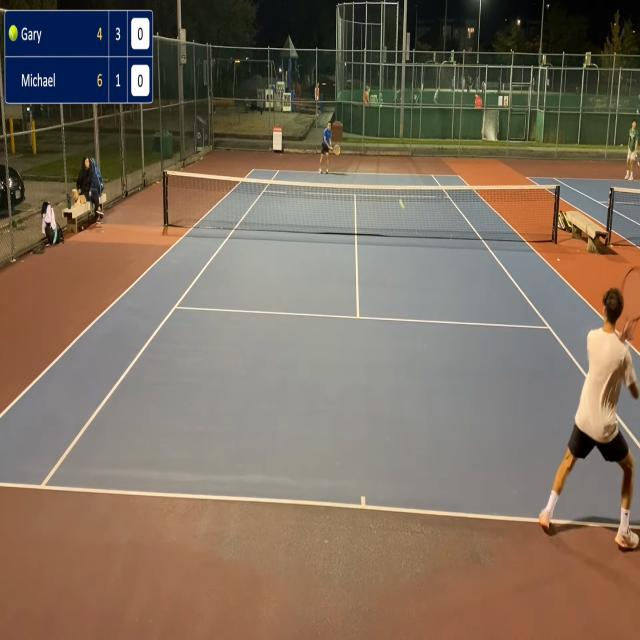ball: (4, 22, 22, 44), (399, 201, 405, 208)
